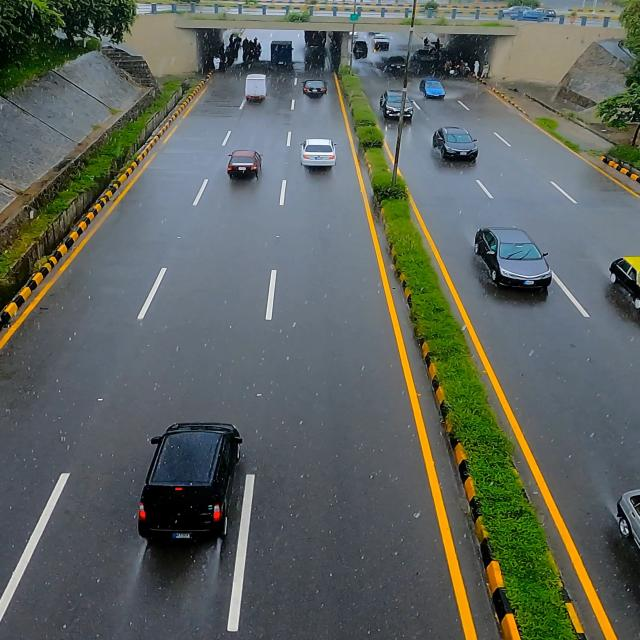Car: (135, 418, 250, 548), (474, 224, 556, 296), (434, 122, 483, 171), (227, 148, 268, 184), (300, 136, 340, 170), (381, 90, 413, 124), (246, 70, 273, 108)
